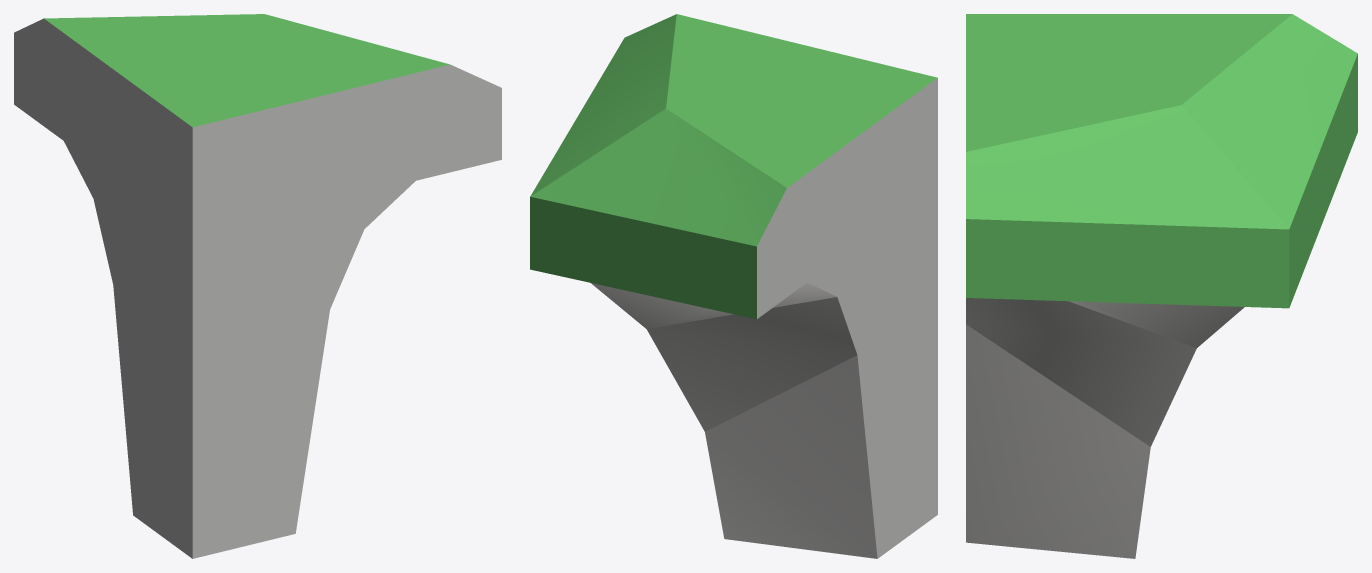
File: Cliff_Top_Corner_Outer_Sm.glb
3 views of the same model, side by side, from view 1: azimuth 30°, elevation 25°; view 2: azimuth 150°, elevation 25°; view 3: azimuth 270°, elevation 25° (orthographic). The views are drawn at different scales.
Parts seen in each view (by area): view 1: object1; view 2: object1; view 3: object1.
Part boxes in pixels (bbox=[...]): object1: bbox=[14, 14, 501, 558]; object1: bbox=[530, 14, 937, 558]; object1: bbox=[966, 14, 1357, 558].
Size of the model in its own units: 0.9 by 1.2 by 0.9.
